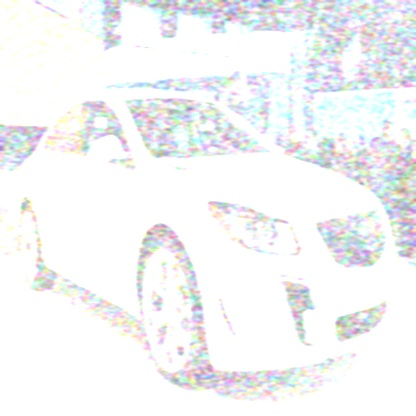Vehicle: (17, 98, 398, 384)
